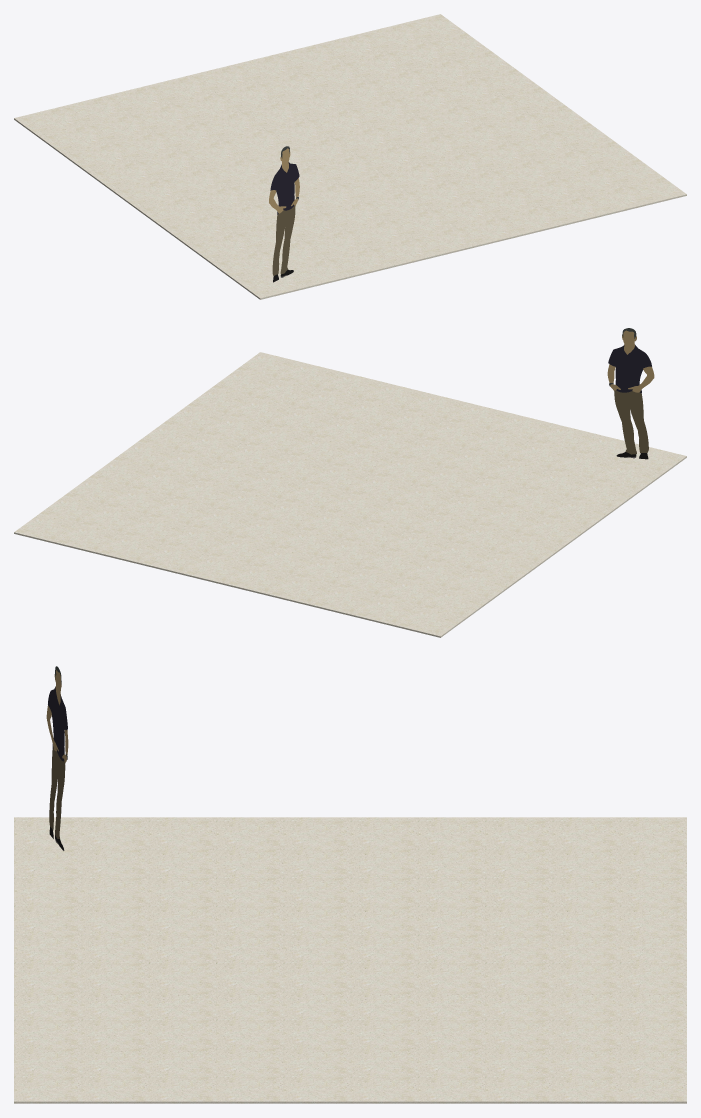
The picture shows the model from 3 angles, top to bottom: view 1: azimuth 30°, elevation 25°; view 2: azimuth 150°, elevation 25°; view 3: azimuth 270°, elevation 25°; orthographic projection. The views are drawn at different scales.
Visible parts, largest first — view 1: Tile (×100), Chris (×2); view 2: Tile (×100), Chris (×2); view 3: Tile (×100), Chris (×2).
Boxes of the visible parts, x1=… form: Tile (×100): x1=14, y1=14, x2=686, y2=299; Chris (×2): x1=270, y1=162, x2=299, y2=275; Tile (×100): x1=14, y1=352, x2=686, y2=637; Chris (×2): x1=608, y1=345, x2=651, y2=454; Tile (×100): x1=14, y1=817, x2=686, y2=1103; Chris (×2): x1=48, y1=687, x2=67, y2=838.
Bounding box in the file's own units: 236 × 236 × 69.5.
Materials: 7 (1 with a texture image).
